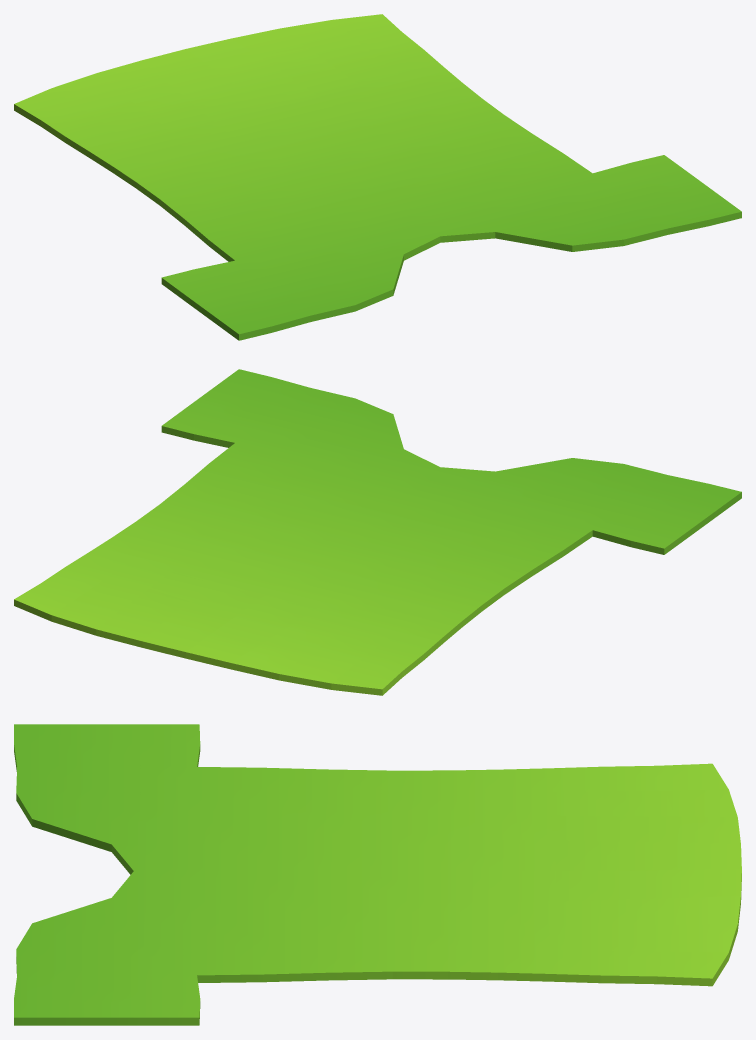
File: camiseta_1.glb
3 views of the same model, one above another, from view 1: azimuth 30°, elevation 25°; view 2: azimuth 150°, elevation 25°; view 3: azimuth 270°, elevation 25° (orthographic). The views are drawn at different scales.
Visible parts, largest first — view 1: camiseta_1; view 2: camiseta_1; view 3: camiseta_1.
Boxes of the visible parts, x1=… form: camiseta_1: x1=14, y1=14, x2=741, y2=340; camiseta_1: x1=14, y1=369, x2=741, y2=695; camiseta_1: x1=14, y1=724, x2=741, y2=1025.
Size of what is drawn, in the model's own units: 0.6144 by 0.00898 by 0.6443.
Materials: 1 (1 with a texture image).
